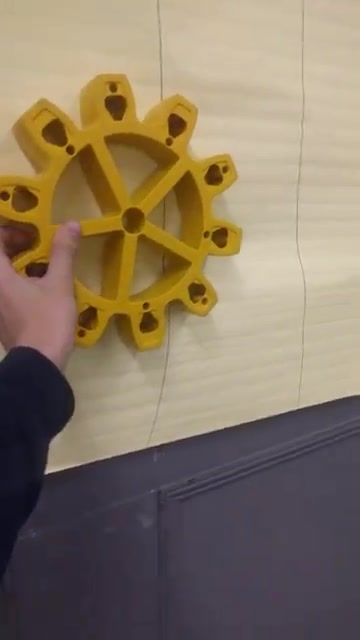gear: (1, 71, 253, 362)
